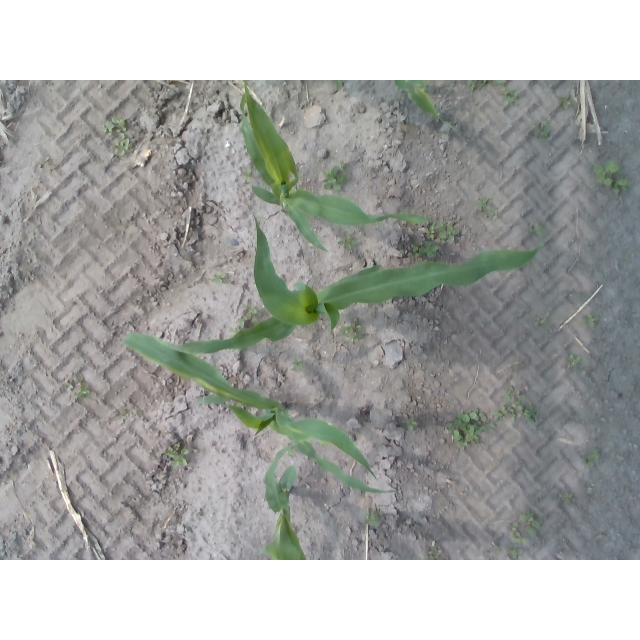Maize: (149, 214, 539, 355), (125, 333, 392, 496), (240, 81, 436, 255), (334, 80, 462, 133), (264, 440, 309, 560)
Weeds: (493, 390, 536, 430), (447, 411, 485, 450), (596, 162, 627, 192), (321, 168, 349, 193), (521, 511, 542, 536), (69, 377, 91, 399), (103, 118, 127, 138), (168, 449, 190, 467), (420, 240, 440, 256), (238, 308, 254, 328), (501, 90, 519, 107), (440, 227, 461, 241), (115, 140, 130, 156), (366, 509, 381, 525), (339, 236, 357, 248), (534, 126, 550, 138), (402, 418, 417, 430), (346, 321, 362, 332), (570, 353, 582, 367), (406, 244, 420, 256), (478, 197, 490, 211), (468, 81, 481, 92), (292, 358, 303, 370), (511, 524, 521, 537), (425, 228, 436, 238), (565, 493, 575, 504), (214, 274, 226, 283), (589, 314, 596, 326), (592, 451, 601, 457)
